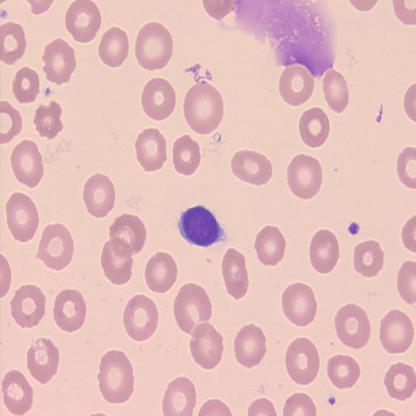Lymphocyte: (177, 204, 225, 249)
